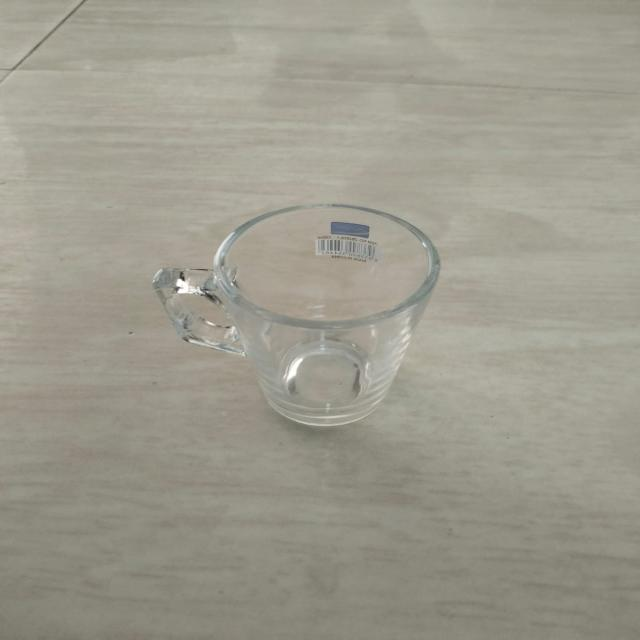glass-VX4N: (142, 200, 448, 434)
